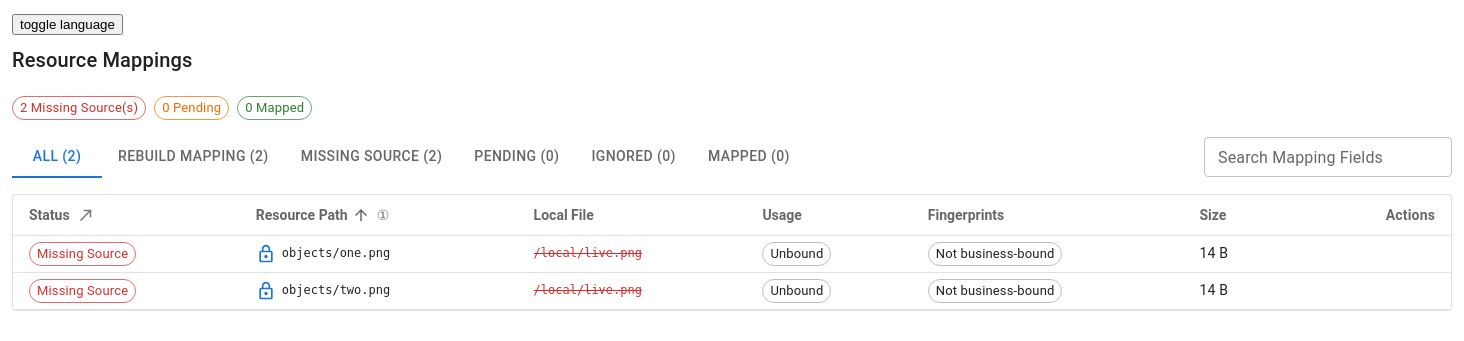
Test case: keeps same-tab selection across searches
Expected: the table is shown, 13,194 -> 1451,310
Click the tab "Missing Source (2)": (372, 157) 285,136 -> 458,178
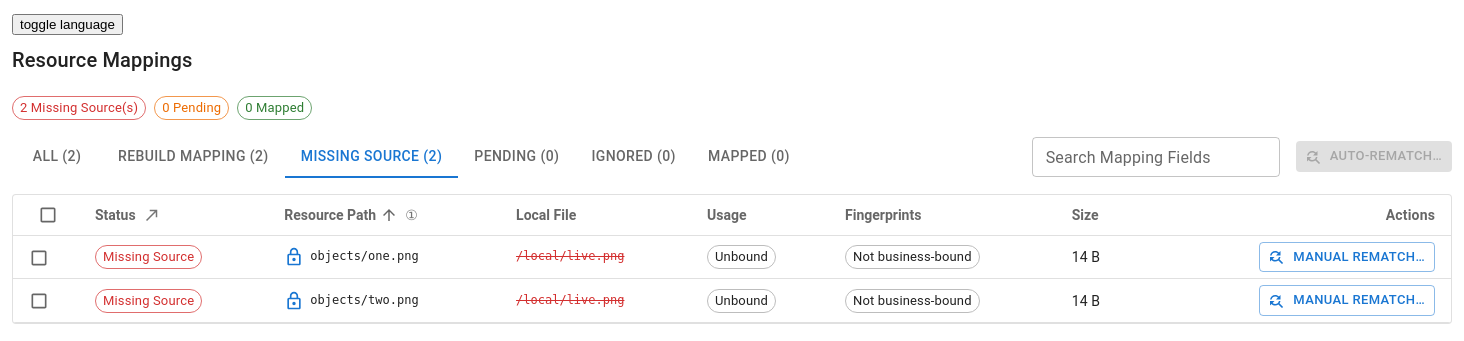
Click the checkbox named "Select objects/one.png to rematch": (39, 258) 29,248 -> 49,268
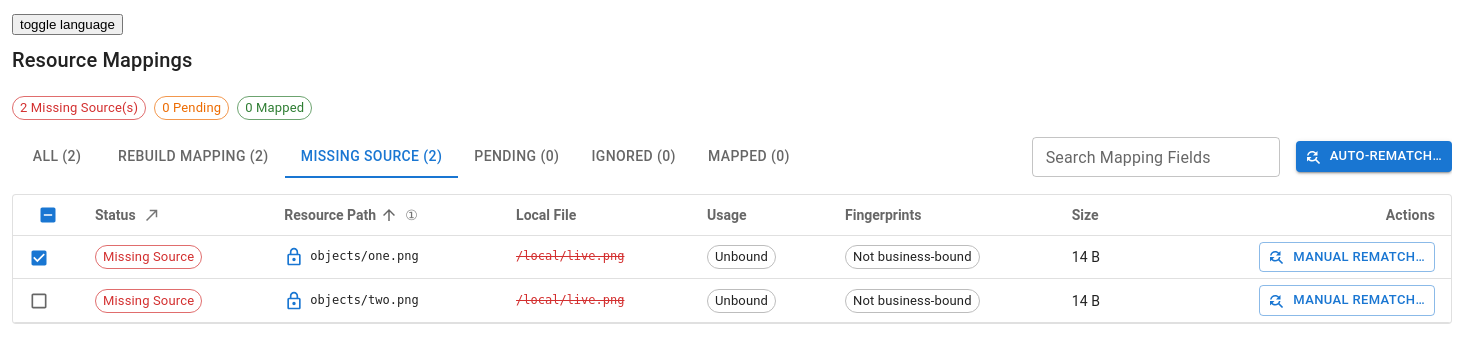
In the field labelled "Search Mapping Fields": (1156, 157) 1032,137 -> 1280,177, type "two.png"
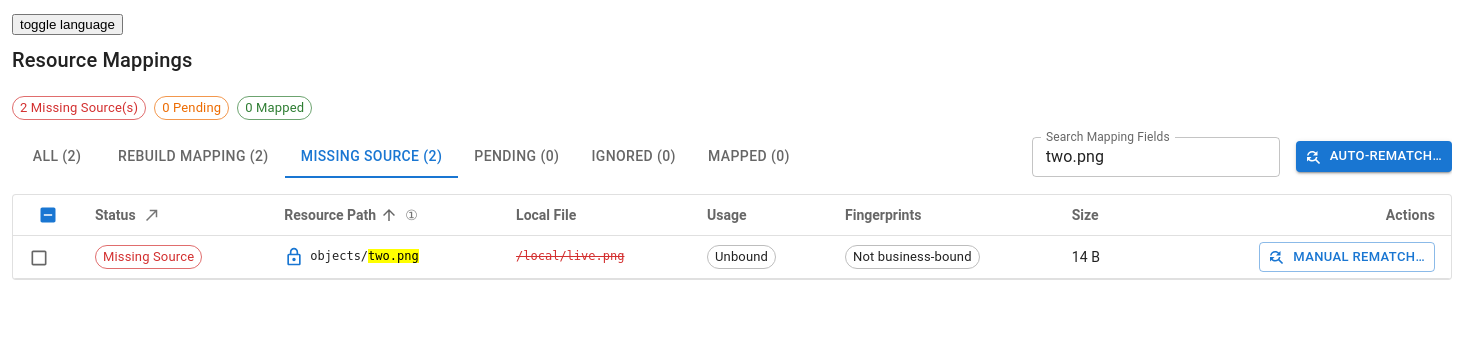
Result: the button "objects/one.png" is gone
Clear the field labelled "Search Mapping Fields": (1156, 157) 1032,137 -> 1280,177
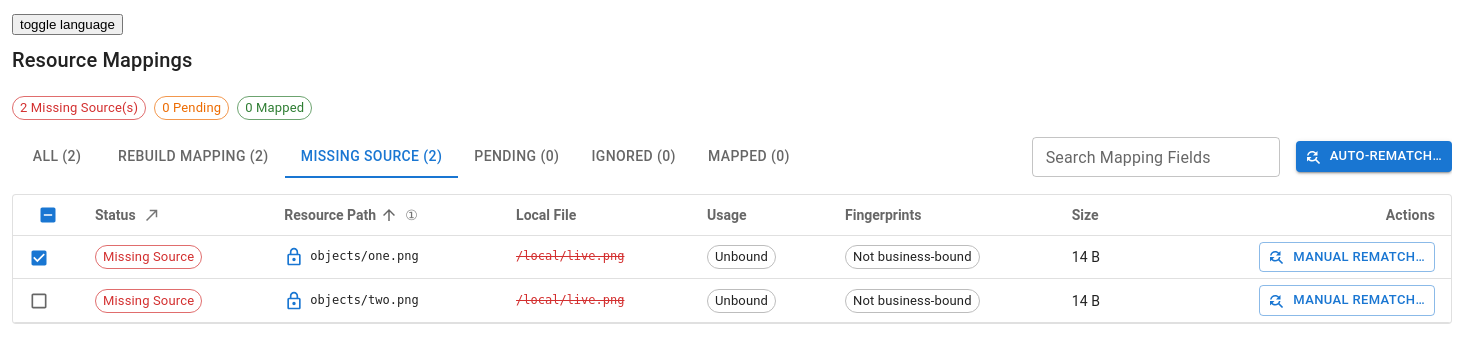
Result: the checkbox named "Select objects/one.png to rematch" is checked at 29,248 -> 49,268
